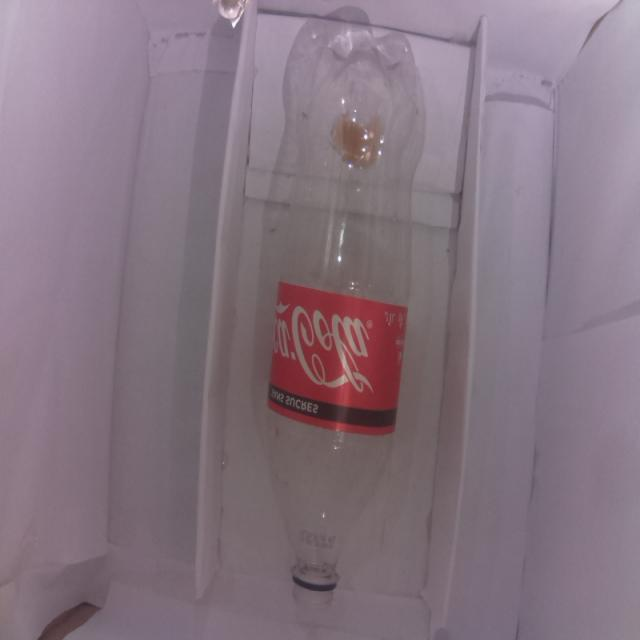good: (236, 29, 438, 626)
